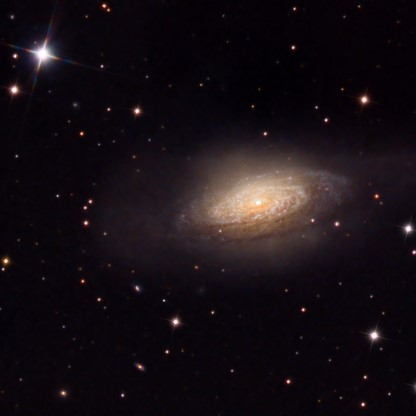NGC 3521: (110, 90, 415, 271)
